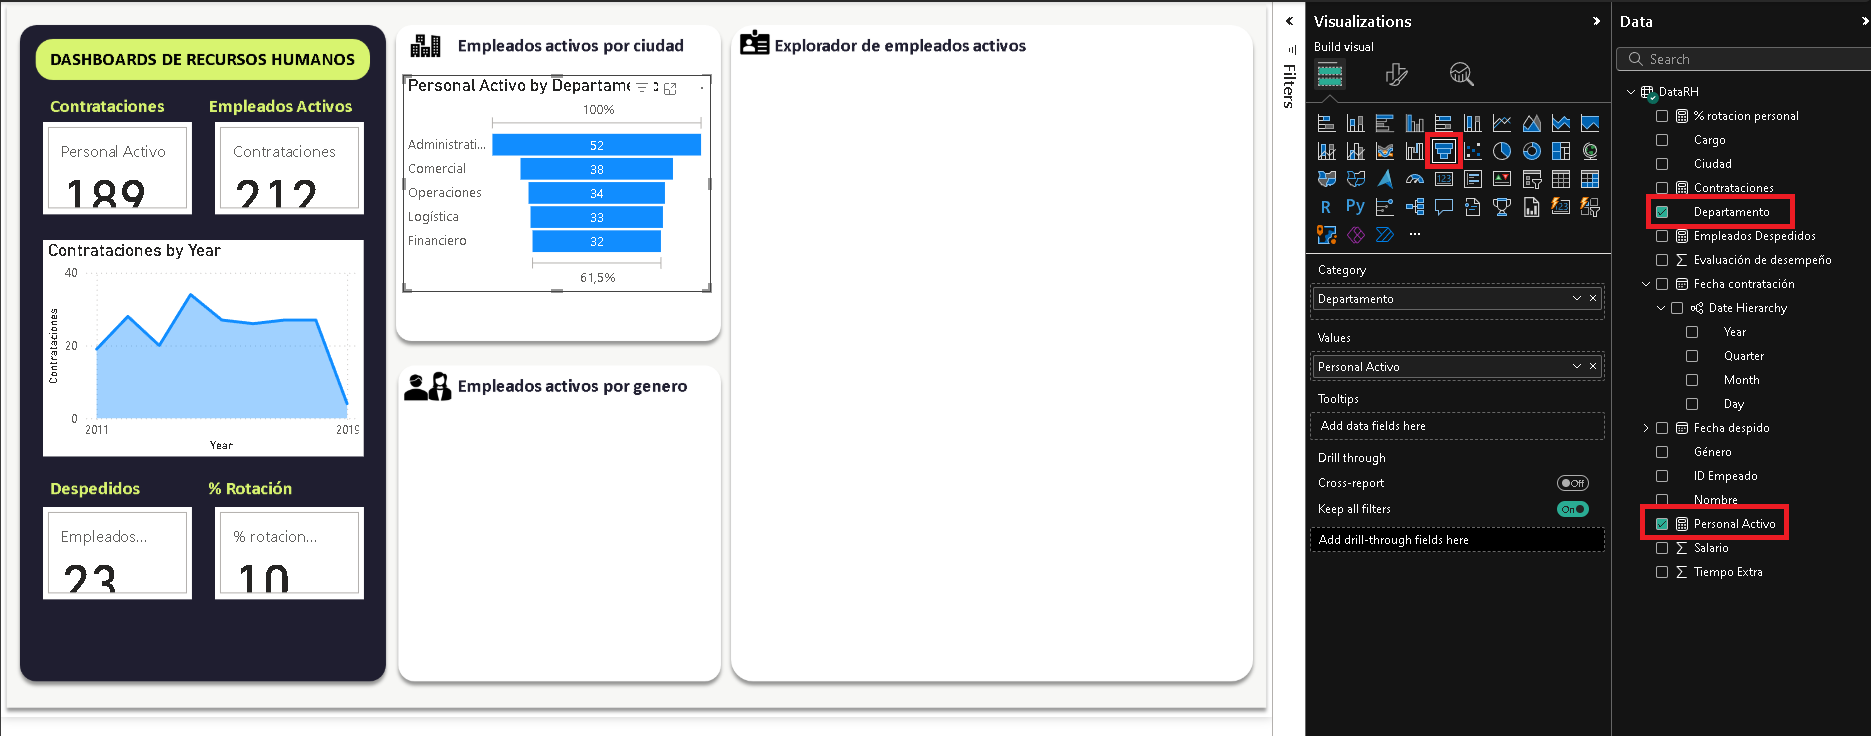

This screenshot's page, from the dashboard's own definition file:
{"tool":"powerbi","page":{"name":"Page 1","canvas":[1280,720],"ordinal":0},"visuals":[{"type":"cardVisual","fields":{"Data":["DataRH.% rotacion personal"]},"box":[192.2,490,187.8,111.1],"z":0},{"type":"cardVisual","fields":{"Data":["DataRH.Contrataciones"]},"box":[215.6,106.7,150,106.7],"z":1000},{"type":"cardVisual","fields":{"Data":["DataRH.Personal Activo"]},"box":[42.2,106.7,150,106.7],"z":2000},{"type":"cardVisual","fields":{"Data":["DataRH.Empleados Despedidos"]},"box":[42.2,490,150,111.1],"z":3000},{"type":"areaChart","title":"Contrataciones por Año","fields":{"Y":["DataRH.Contrataciones"],"Category":["DataRH.Fecha contratación.Variation.Date Hierarchy.Year"]},"box":[26.7,213.3,353.3,243.3],"z":4000},{"type":"funnel","fields":{"Y":["DataRH.Personal Activo"],"Category":["DataRH.Ciudad"]},"box":[406.2,55.4,310.8,280],"z":5000},{"type":"donutChart","fields":{"Y":["DataRH.Personal Activo"],"Category":["DataRH.Género"]},"box":[406.2,400,310.8,276.2],"z":6000},{"type":"decompositionTreeVisual","fields":{"Analyze":["DataRH.Personal Activo"],"ExplainBy":["DataRH.Departamento","DataRH.Cargo"]},"box":[735.6,67.8,513.3,596.7],"z":7000}]}

Visuals, with their boxes on the page's 1280x720 design canvas (x1, y1, x2, y2). These are canvas units, not pixel positions in the 1871x736 screenshot, which may show the page scaled, cropped or inside an application window:
cardVisual - DataRH.% rotacion personal: 192:490:380:601
cardVisual - DataRH.Contrataciones: 216:107:366:213
cardVisual - DataRH.Personal Activo: 42:107:192:213
cardVisual - DataRH.Empleados Despedidos: 42:490:192:601
"Contrataciones por Año" areaChart: 27:213:380:457
funnel - DataRH.Personal Activo x DataRH.Ciudad: 406:55:717:335
donutChart - DataRH.Personal Activo x DataRH.Género: 406:400:717:676
decompositionTreeVisual - DataRH.Personal Activo x DataRH.Departamento: 736:68:1249:664
